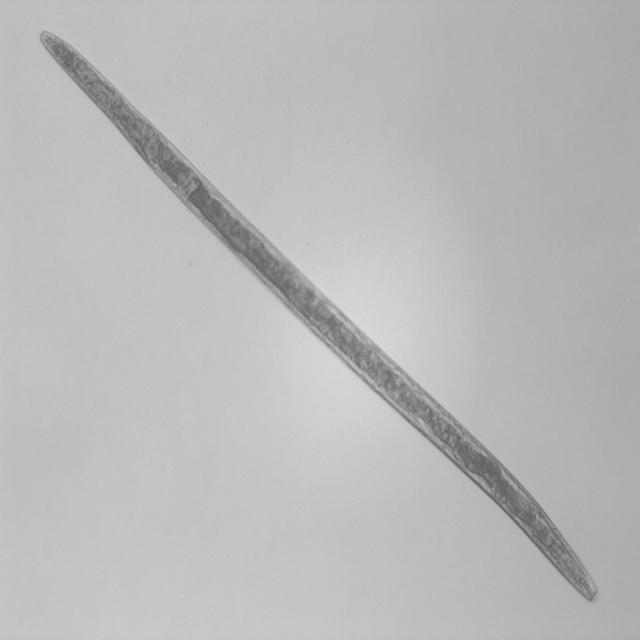Pratylenchus: (37, 27, 604, 604)
